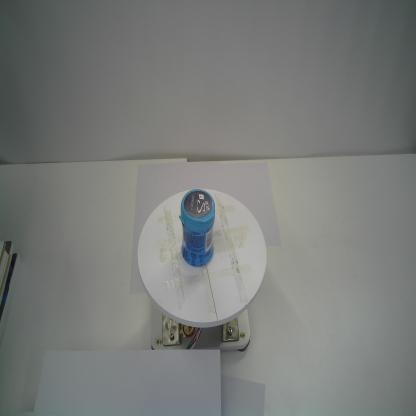Gum: (178, 183, 215, 266)
